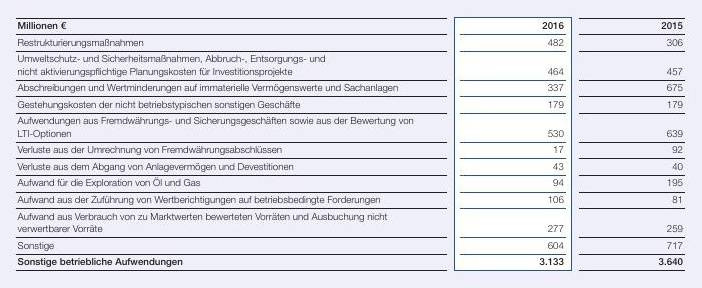table: (0, 0, 702, 288)
